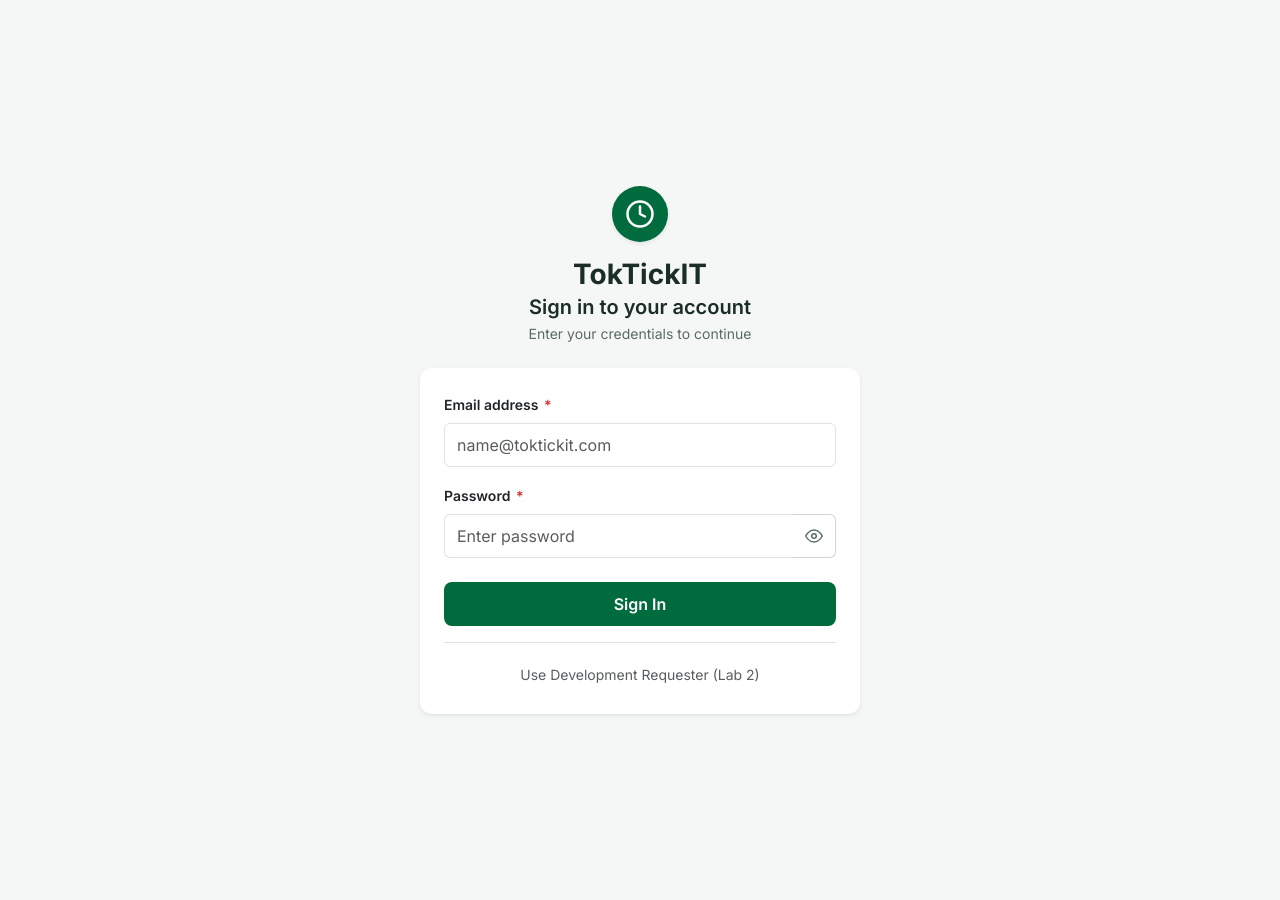
Login Component — UI-01 (AC-01, FR-01, FR-02) › transitions seamlessly to My Tickets dashboard upon login as REQUESTER
This screenshot has width=1280, height=900.
Type "jennifer.anderson@example.com" into the field labelled "Email address *" at (640, 445), box [444,423,836,467]
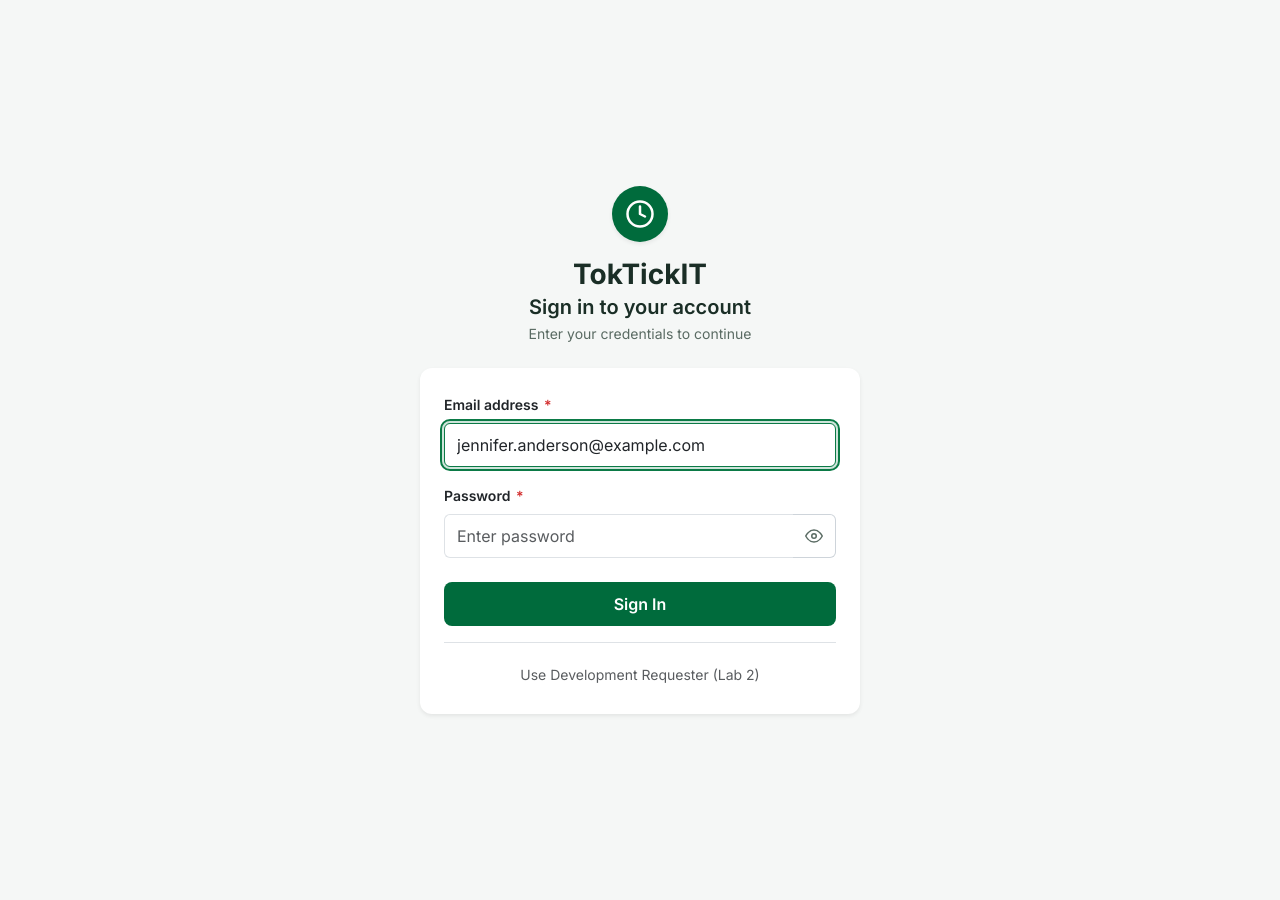
Type "Password123!" into the password field labelled "Password *" at (619, 536), box [444,514,794,558]
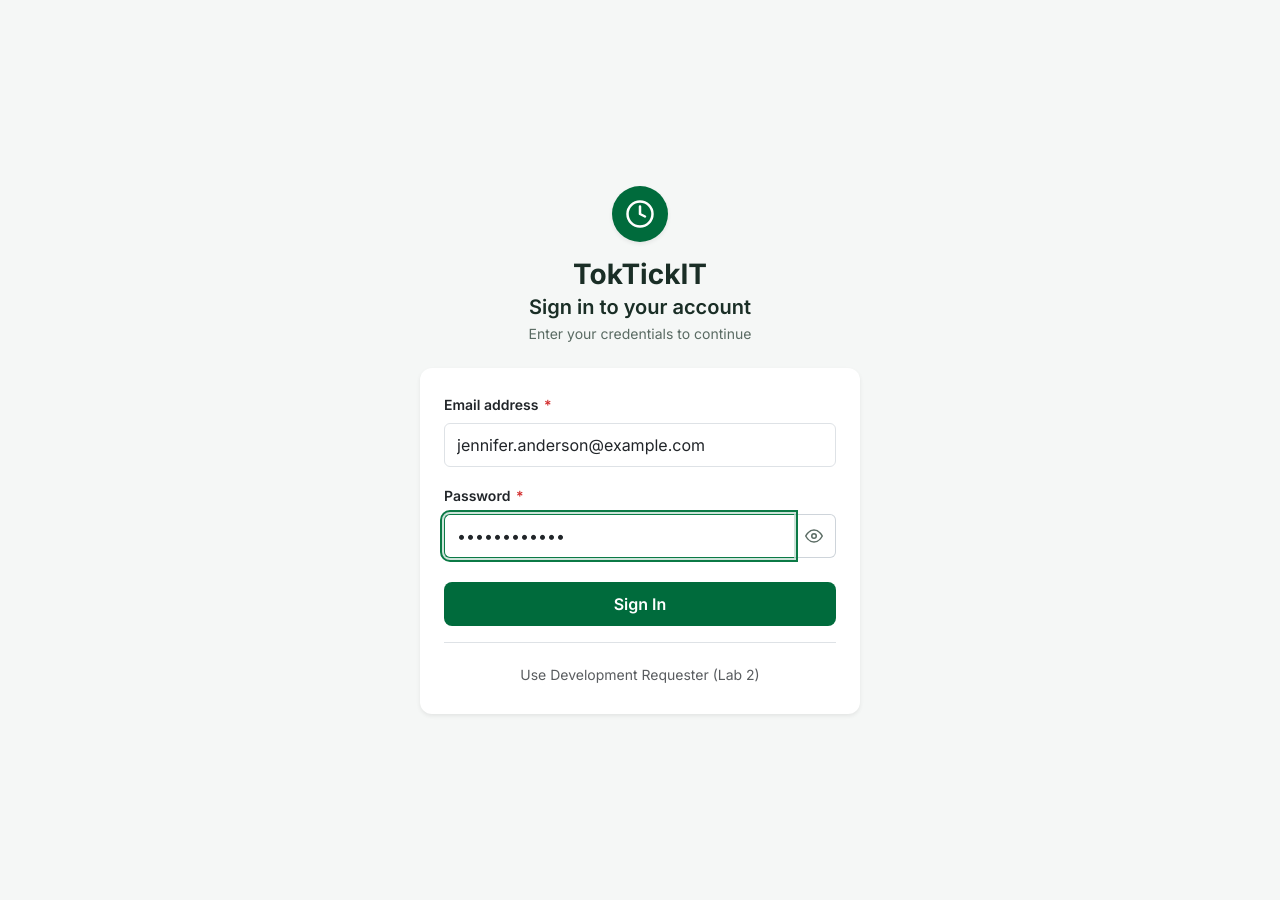
Click the button "Sign In" at (640, 604), box [444,582,836,626]
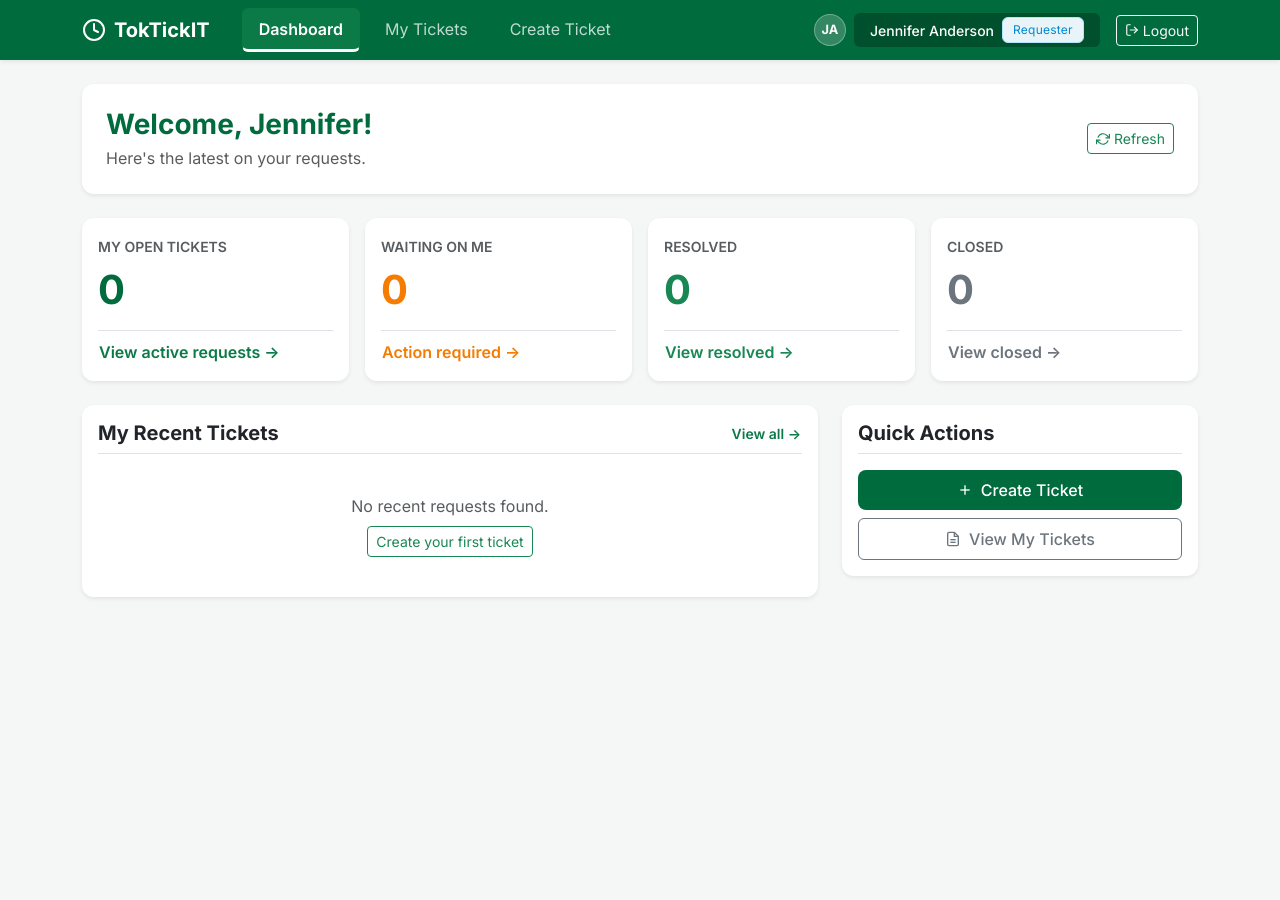
Check: the heading "Welcome, Jennifer!" is shown, box [106,108,372,142]
Click the button "My Tickets" at (426, 30), box [368,8,485,52]
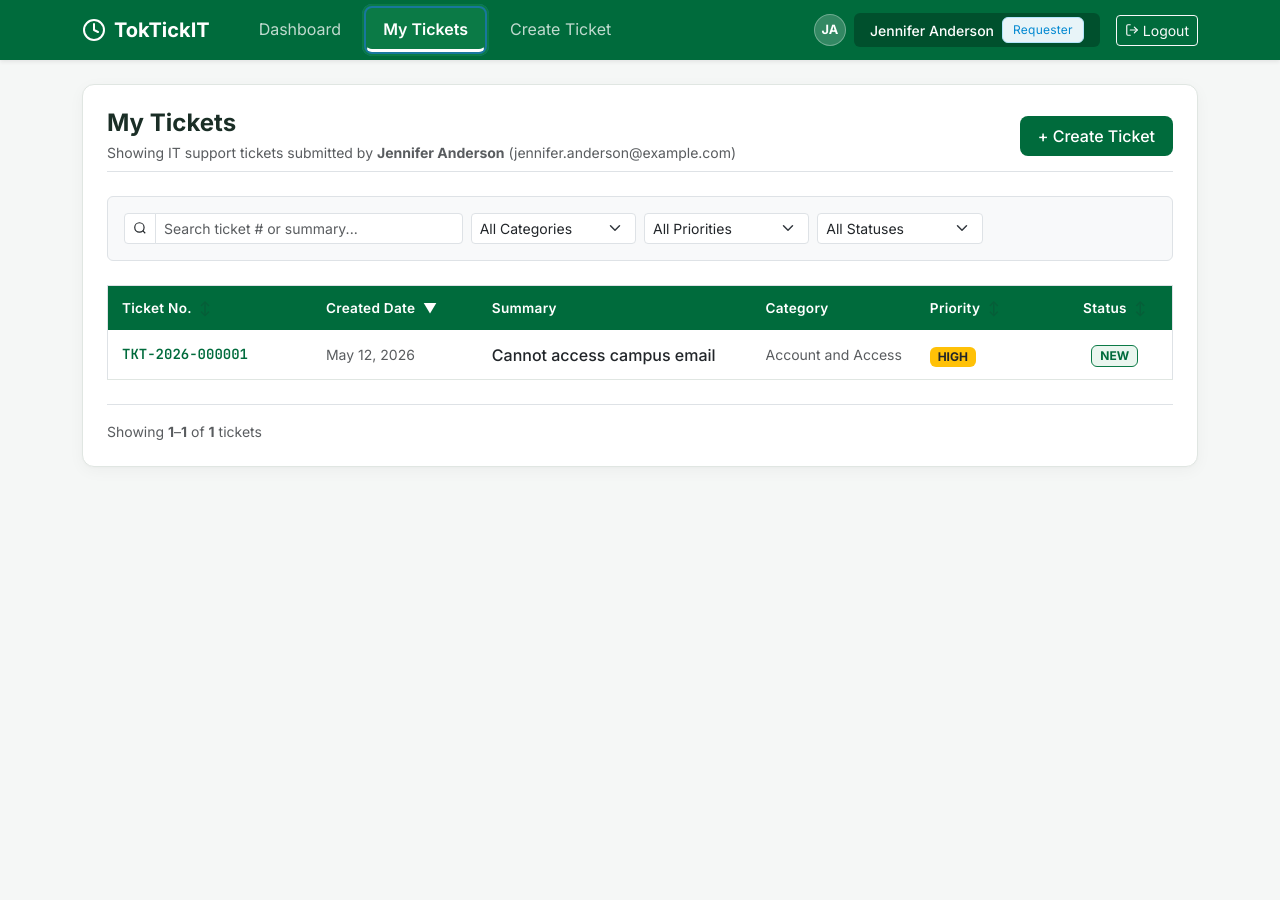
Check: the heading "My Tickets" is shown, box [107,108,236,137]
Check: the text "TKT-2026-000001" is shown, box [108,330,312,380]
Check: the text "Cannot access campus email" is shown, box [492,343,738,367]
